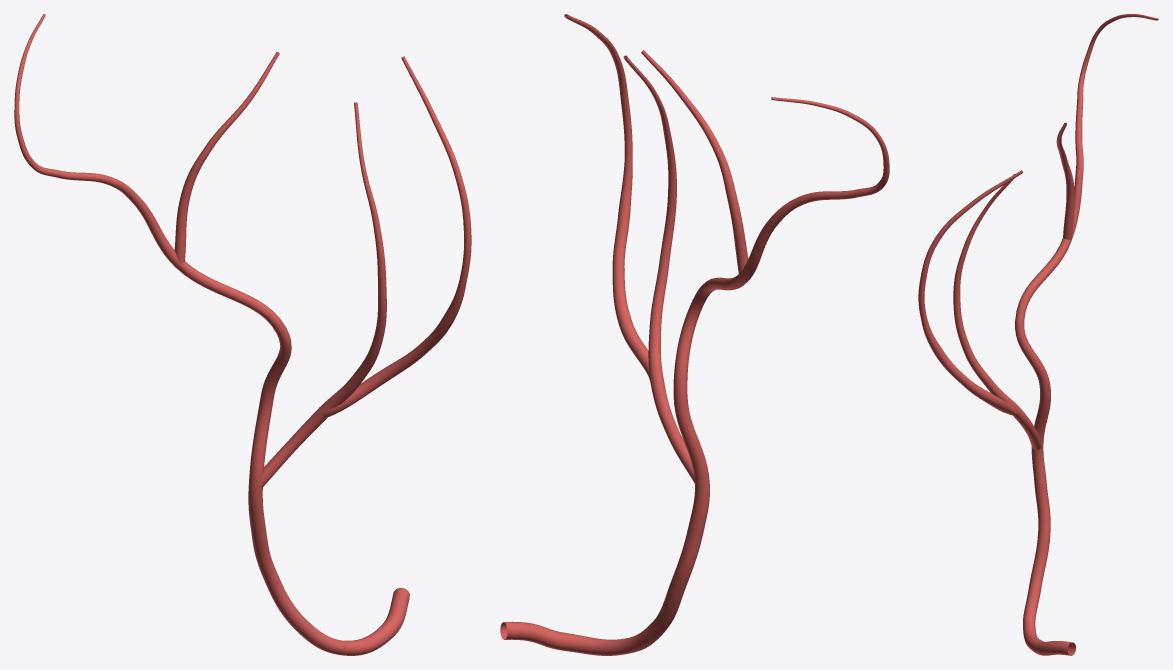
3 renders of one model, left to right at view 1: azimuth 30°, elevation 25°; view 2: azimuth 150°, elevation 25°; view 3: azimuth 270°, elevation 25°, orthographic. The views are drawn at different scales.
Visible parts, largest first — view 1: 右侧小脑上动脉; view 2: 右侧小脑上动脉; view 3: 右侧小脑上动脉.
Part boxes in pixels (left/top/right/bottom): 右侧小脑上动脉: left=14, top=14, right=471, bottom=655; 右侧小脑上动脉: left=500, top=14, right=889, bottom=655; 右侧小脑上动脉: left=918, top=14, right=1158, bottom=655.
Bounding box in the file's own units: 0.0682 × 0.1102 × 0.0454.
